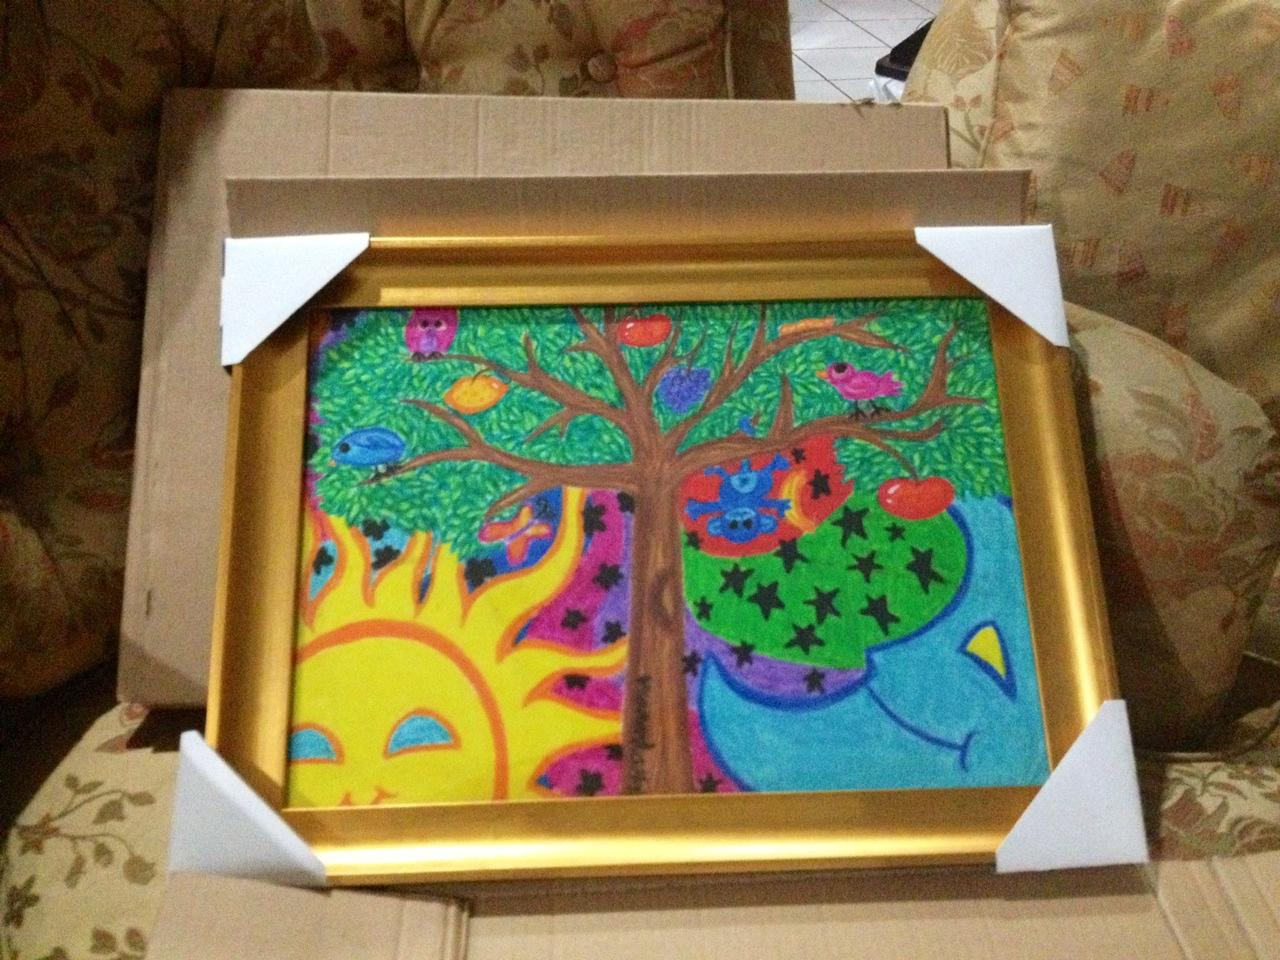lukisan: (170, 238, 1180, 916)
